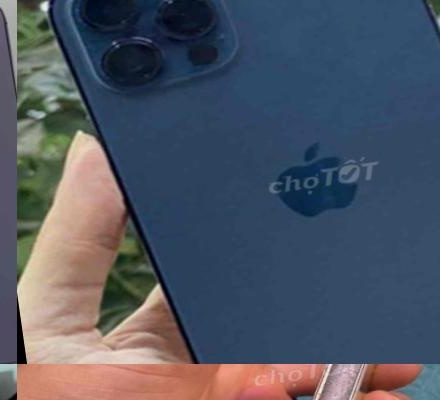scratch: (314, 364, 384, 390)
